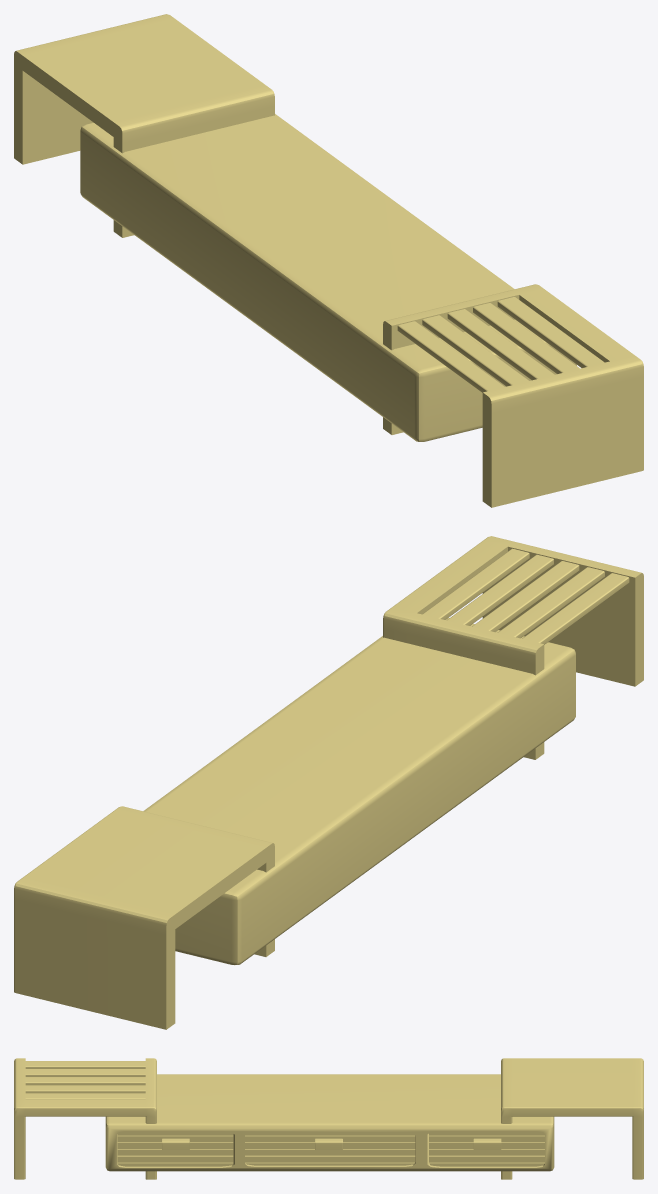
Rendered from TV_cabinet.fbx.
The picture shows the model from 3 angles, top to bottom: view 1: azimuth 30°, elevation 25°; view 2: azimuth 150°, elevation 25°; view 3: azimuth 270°, elevation 25°; orthographic projection. The views are drawn at different scales.
Parts seen in each view (by area): view 1: pCube21; view 2: pCube21; view 3: pCube21.
Boxes of the visible parts, box(x1,y1,x2,y2) form: pCube21: box(14, 14, 643, 507); pCube21: box(14, 536, 643, 1029); pCube21: box(14, 1058, 643, 1179).
Bounding box in the file's own units: 0.5943 × 0.371 × 2.94.
